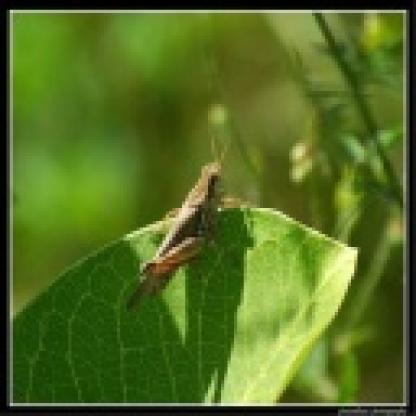grasshopper: (131, 154, 233, 289)
